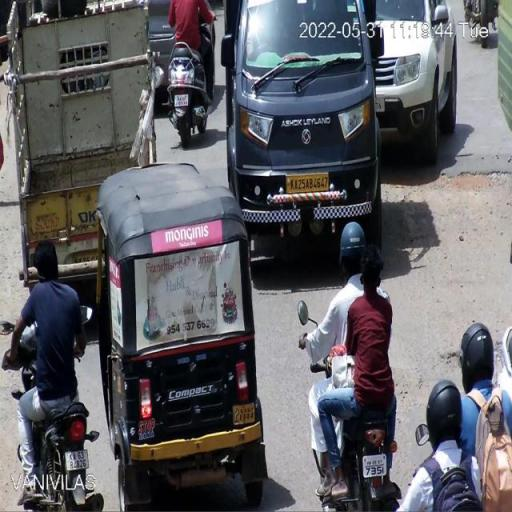using mobile: (33, 274, 51, 286)
